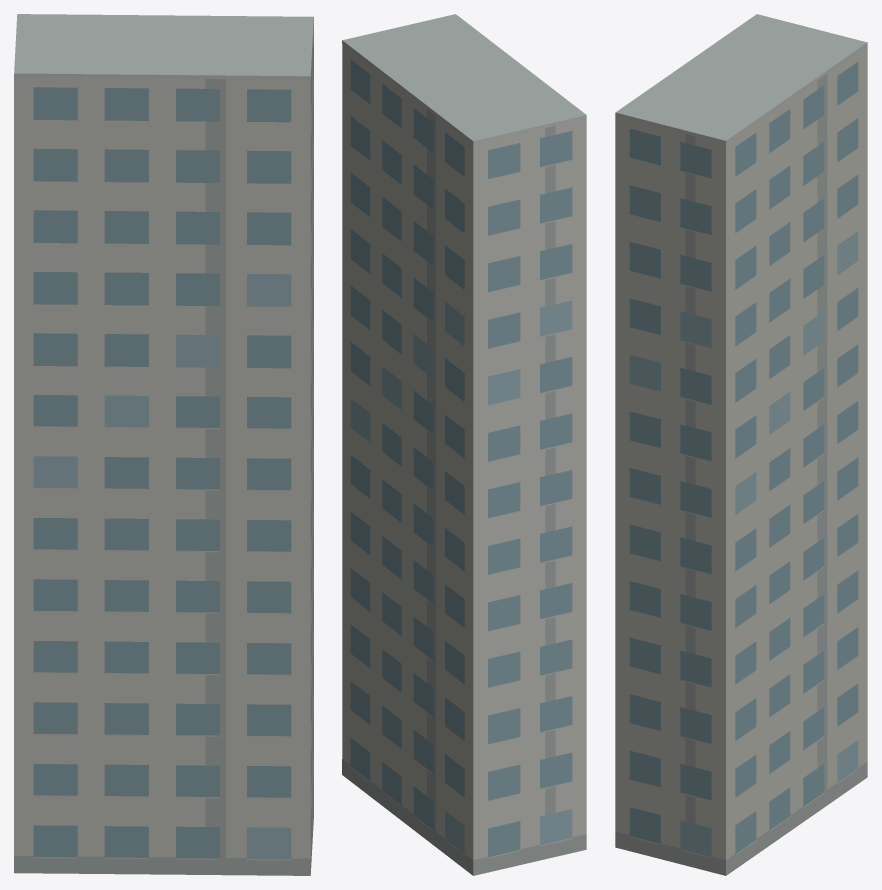
The model's file is residential-44ca65d7-5dc6-4d06-a339-e541149be00a.glb.
The picture shows the model from 3 angles, left to right: view 1: azimuth 30°, elevation 25°; view 2: azimuth 150°, elevation 25°; view 3: azimuth 270°, elevation 25°; orthographic projection. The views are drawn at different scales.
Parts seen in each view (by area): view 1: residential-44ca65d7-5dc6-4d06-a339-e541149be00a.tmp; view 2: residential-44ca65d7-5dc6-4d06-a339-e541149be00a.tmp; view 3: residential-44ca65d7-5dc6-4d06-a339-e541149be00a.tmp.
Part boxes in pixels (<box>): residential-44ca65d7-5dc6-4d06-a339-e541149be00a.tmp: <box>14,14,313,875</box>; residential-44ca65d7-5dc6-4d06-a339-e541149be00a.tmp: <box>342,14,586,875</box>; residential-44ca65d7-5dc6-4d06-a339-e541149be00a.tmp: <box>615,14,867,875</box>.
Bounding box in the file's own units: 19.27 × 52 × 16.17.
